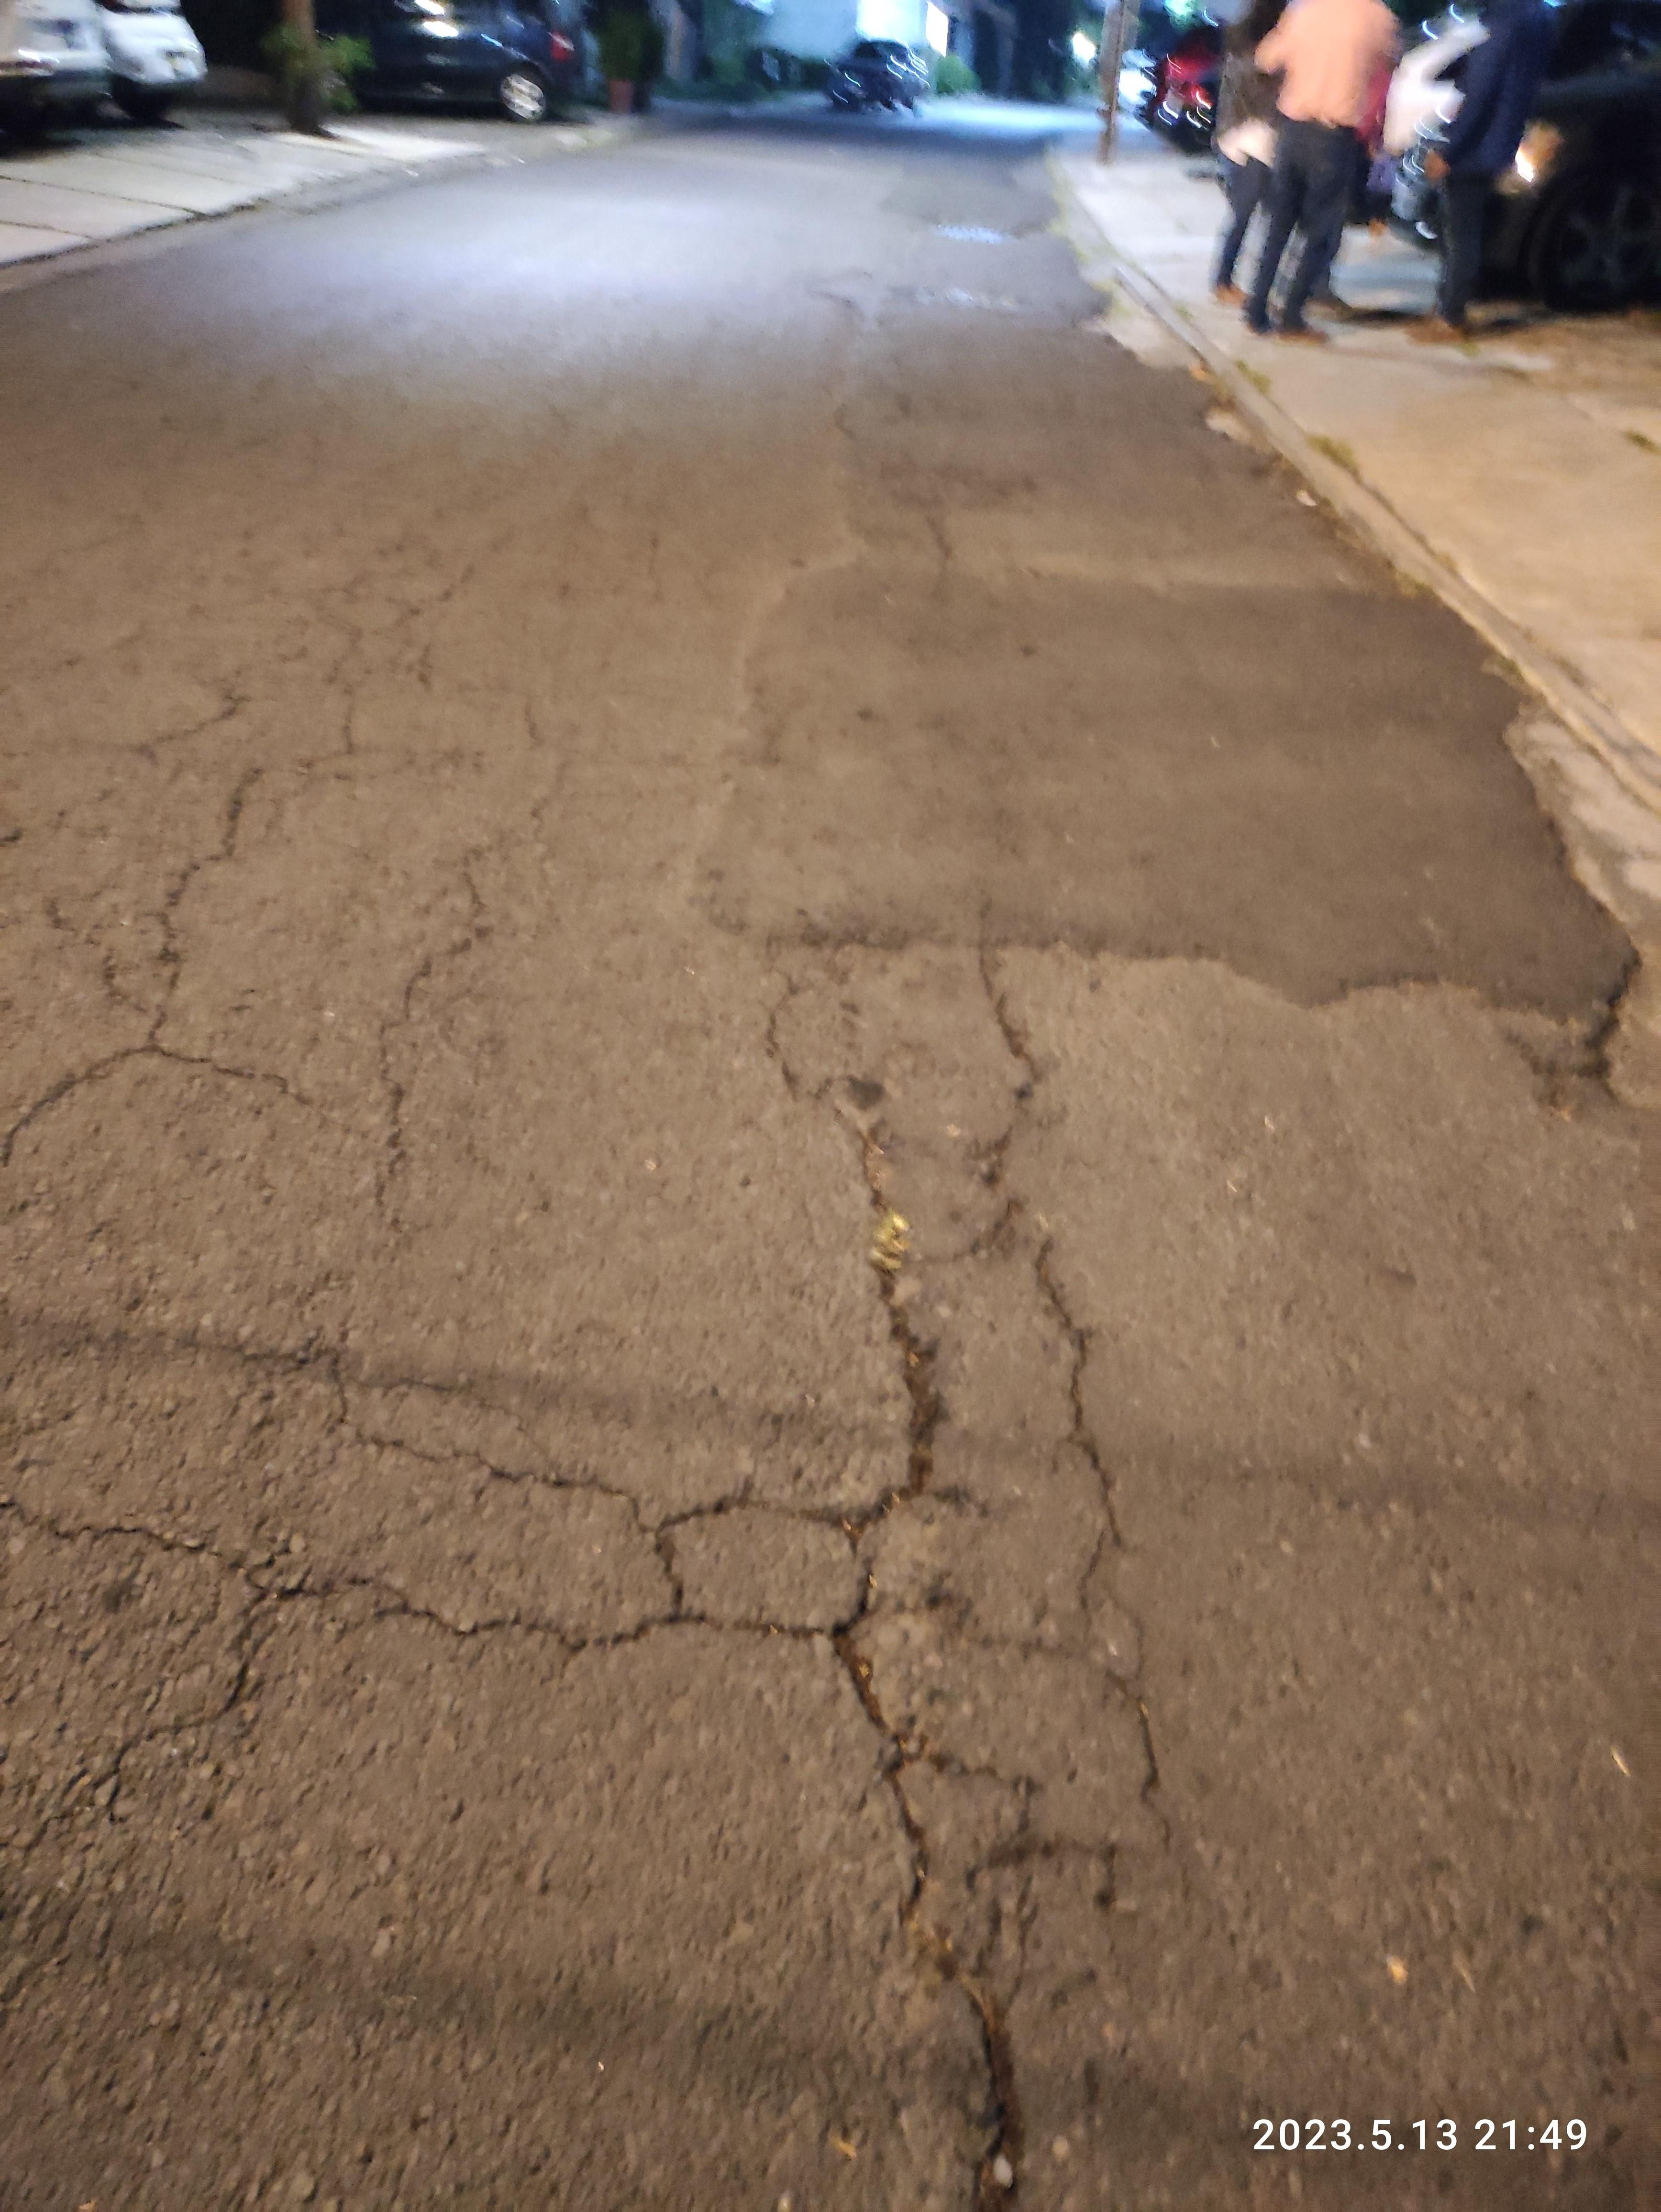alligator-crack: (0, 888, 1141, 2196), (0, 572, 682, 1943)
